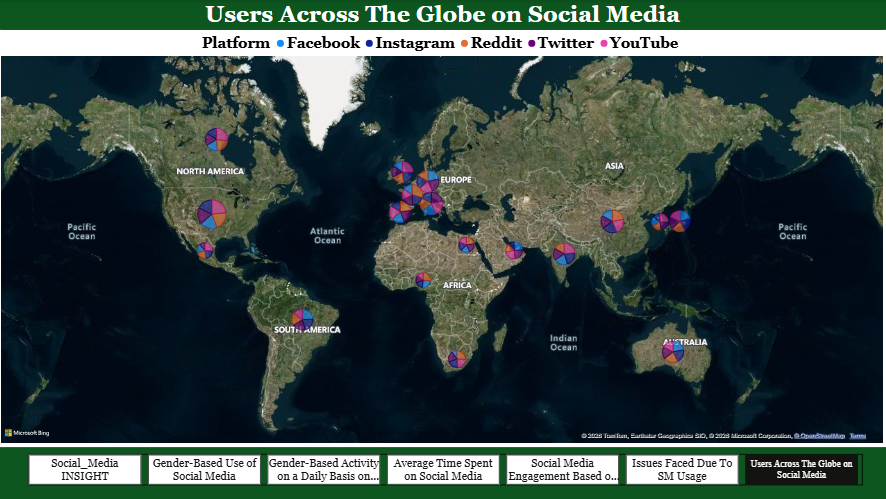

This screenshot's page, from the dashboard's own definition file:
{"tool":"powerbi","page":{"name":"Users Across The Globe on Social Media","canvas":[1280,720],"ordinal":6},"visuals":[{"type":"shape","box":[0,643.3,1280,76.7],"z":0},{"type":"map","title":"Users Across The Globe on Social Media","fields":{"Category":["SME_Location.Country"],"Size":["CountNonNull(SME_Location.User_ID)"],"Series":["SME_Location.Platform"]},"box":[0,0,1280,643.3],"z":1000},{"type":"pageNavigator","box":[43.3,653.3,1201.7,45],"z":2000}]}

Visuals, with their boxes in screenshot pixels (x1, y1, x2, y2), scaled from the page's 1280x720 canvas onto the 886x499 screenshot:
shape: 0, 446, 885, 498
"Users Across The Globe on Social Media" map: 0, 0, 885, 446
pageNavigator: 30, 453, 862, 484
